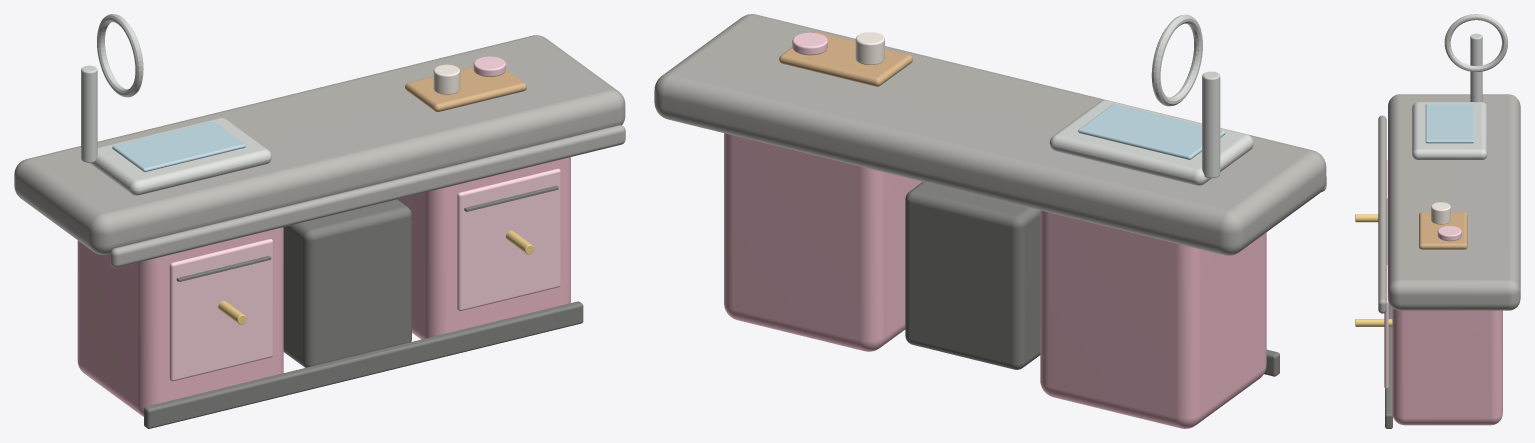
File: 目标灰台面厨房.fbx
The picture shows the model from 3 angles, left to right: view 1: azimuth 30°, elevation 25°; view 2: azimuth 150°, elevation 25°; view 3: azimuth 270°, elevation 25°; orthographic projection. The views are drawn at different scales.
Parts seen in each view (by area): view 1: 目标灰台面厨房_v341_圆角灰石台面, 目标灰台面厨房_v341_中部深灰开放格, 目标灰台面厨房_v341_左粉柜主体, 目标灰台面厨房_v341_粉色柜门柔亮内框, 目标灰台面厨房_v341_粉色柜门柔亮内框.001, 目标灰台面厨房_v341_右粉柜主体, 目标灰台面厨房_v341_台面前圆边, 目标灰台面厨房_v341_内退踢脚线, 目标灰台面厨房_v341_嵌入水槽外沿, 目标灰台面厨房_v341_水槽内柔蓝面, 目标灰台面厨房_v341_浅木托盘, 目标灰台面厨房_v341_弯水龙头立柱 (+3 smaller); view 2: 目标灰台面厨房_v341_圆角灰石台面, 目标灰台面厨房_v341_左粉柜主体, 目标灰台面厨房_v341_右粉柜主体, 目标灰台面厨房_v341_中部深灰开放格, 目标灰台面厨房_v341_嵌入水槽外沿, 目标灰台面厨房_v341_水槽内柔蓝面, 目标灰台面厨房_v341_浅木托盘, 目标灰台面厨房_v341_弯水龙头立柱, 目标灰台面厨房_v341_弯水龙头弧形, 目标灰台面厨房_v341_奶油马克杯, 目标灰台面厨房_v341_粉柜小碗; view 3: 目标灰台面厨房_v341_圆角灰石台面, 目标灰台面厨房_v341_右粉柜主体, 目标灰台面厨房_v341_嵌入水槽外沿, 目标灰台面厨房_v341_水槽内柔蓝面, 目标灰台面厨房_v341_台面前圆边, 目标灰台面厨房_v341_浅木托盘, 目标灰台面厨房_v341_弯水龙头弧形, 目标灰台面厨房_v341_弯水龙头立柱, 目标灰台面厨房_v341_内退踢脚线, 目标灰台面厨房_v341_粉色柜门柔亮内框.001, 目标灰台面厨房_v341_奶油马克杯, 目标灰台面厨房_v341_粉柜小碗 (+3 smaller).
Part boxes in pixels (x1=…): 目标灰台面厨房_v341_圆角灰石台面: x1=14, y1=35, x2=625, y2=254; 目标灰台面厨房_v341_中部深灰开放格: x1=283, y1=199, x2=411, y2=367; 目标灰台面厨房_v341_左粉柜主体: x1=77, y1=227, x2=283, y2=416; 目标灰台面厨房_v341_粉色柜门柔亮内框: x1=169, y1=239, x2=273, y2=381; 目标灰台面厨房_v341_粉色柜门柔亮内框.001: x1=457, y1=168, x2=560, y2=311; 目标灰台面厨房_v341_右粉柜主体: x1=398, y1=157, x2=570, y2=339; 目标灰台面厨房_v341_台面前圆边: x1=110, y1=125, x2=625, y2=267; 目标灰台面厨房_v341_内退踢脚线: x1=144, y1=301, x2=583, y2=428; 目标灰台面厨房_v341_嵌入水槽外沿: x1=89, y1=117, x2=271, y2=195; 目标灰台面厨房_v341_水槽内柔蓝面: x1=112, y1=121, x2=245, y2=172; 目标灰台面厨房_v341_浅木托盘: x1=405, y1=67, x2=526, y2=112; 目标灰台面厨房_v341_弯水龙头立柱: x1=81, y1=65, x2=97, y2=162; 目标灰台面厨房_v341_圆角灰石台面: x1=654, y1=14, x2=1326, y2=255; 目标灰台面厨房_v341_左粉柜主体: x1=1040, y1=210, x2=1266, y2=428; 目标灰台面厨房_v341_右粉柜主体: x1=724, y1=133, x2=922, y2=351; 目标灰台面厨房_v341_中部深灰开放格: x1=905, y1=182, x2=1040, y2=369; 目标灰台面厨房_v341_嵌入水槽外沿: x1=1049, y1=100, x2=1253, y2=185; 目标灰台面厨房_v341_水槽内柔蓝面: x1=1078, y1=104, x2=1225, y2=159; 目标灰台面厨房_v341_浅木托盘: x1=779, y1=31, x2=912, y2=86; 目标灰台面厨房_v341_弯水龙头立柱: x1=1202, y1=71, x2=1220, y2=178; 目标灰台面厨房_v341_弯水龙头弧形: x1=1151, y1=14, x2=1202, y2=106; 目标灰台面厨房_v341_奶油马克杯: x1=855, y1=32, x2=884, y2=64; 目标灰台面厨房_v341_粉柜小碗: x1=792, y1=32, x2=827, y2=55; 目标灰台面厨房_v341_圆角灰石台面: x1=1388, y1=94, x2=1520, y2=310; 目标灰台面厨房_v341_右粉柜主体: x1=1392, y1=308, x2=1502, y2=425; 目标灰台面厨房_v341_嵌入水槽外沿: x1=1412, y1=102, x2=1487, y2=159; 目标灰台面厨房_v341_水槽内柔蓝面: x1=1425, y1=104, x2=1473, y2=143; 目标灰台面厨房_v341_台面前圆边: x1=1378, y1=115, x2=1386, y2=313; 目标灰台面厨房_v341_浅木托盘: x1=1419, y1=212, x2=1467, y2=249; 目标灰台面厨房_v341_弯水龙头弧形: x1=1444, y1=14, x2=1507, y2=71; 目标灰台面厨房_v341_弯水龙头立柱: x1=1470, y1=33, x2=1482, y2=102; 目标灰台面厨房_v341_内退踢脚线: x1=1385, y1=303, x2=1392, y2=428; 目标灰台面厨房_v341_粉色柜门柔亮内框.001: x1=1384, y1=265, x2=1388, y2=388; 目标灰台面厨房_v341_奶油马克杯: x1=1431, y1=202, x2=1450, y2=224; 目标灰台面厨房_v341_粉柜小碗: x1=1437, y1=226, x2=1461, y2=241.
Bounding box in the file's own units: 208 × 134 × 74.7.
